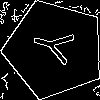Y: (29, 24, 85, 69)
